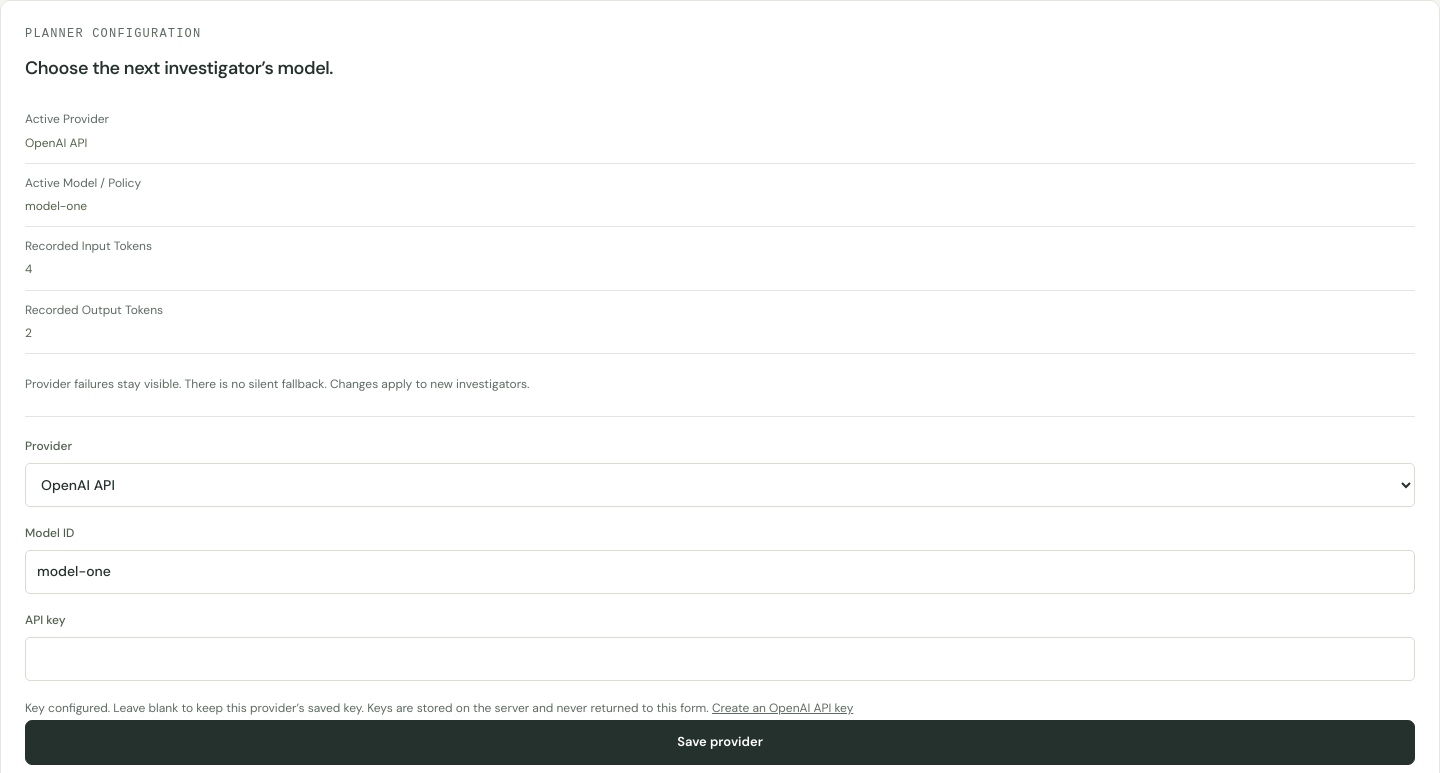
provider setup › shows helpful request failures and never echoes the entered secret
Type "private-fixture" into the password field labelled "API key" at (720, 659), box [25,637,1415,681]
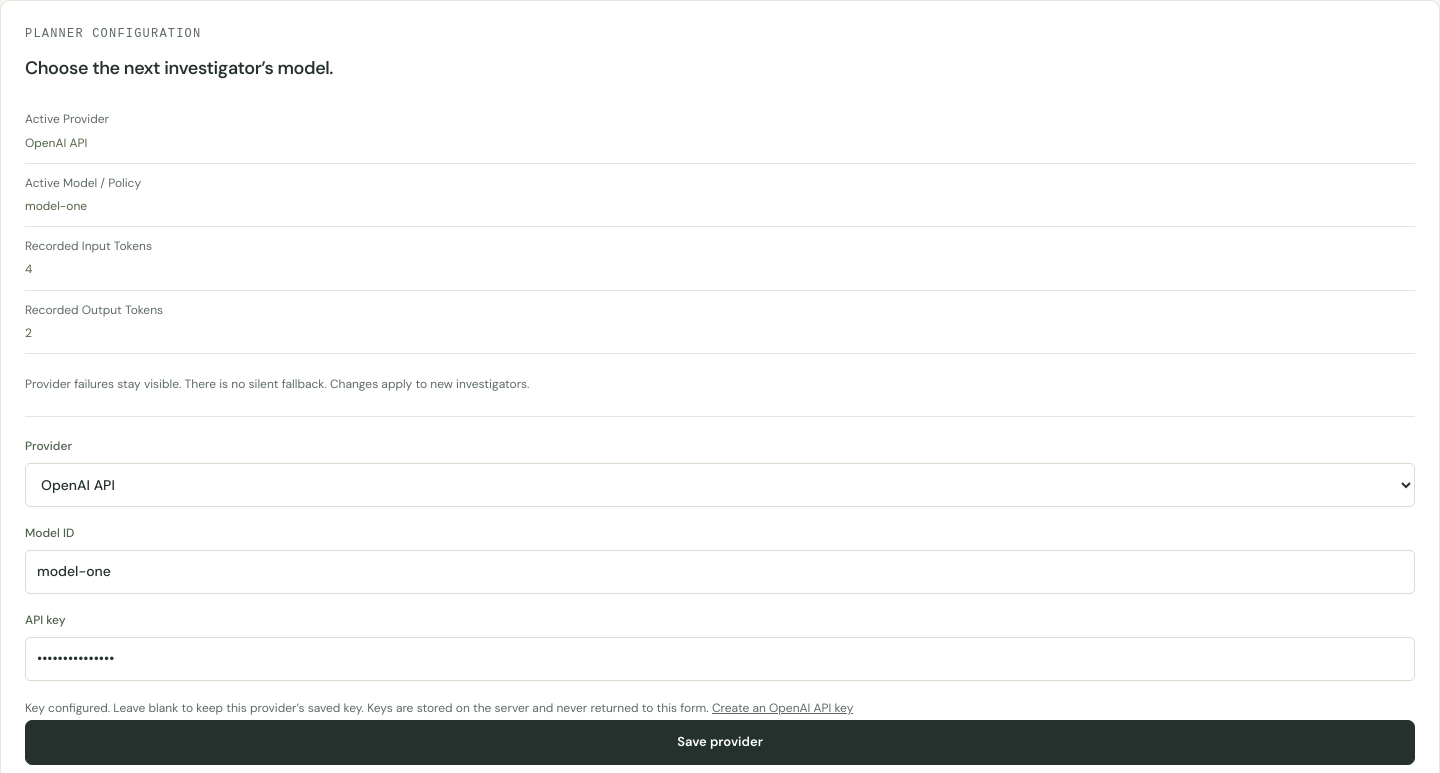
Click the button "Save provider" at (720, 742), box [25,720,1415,764]
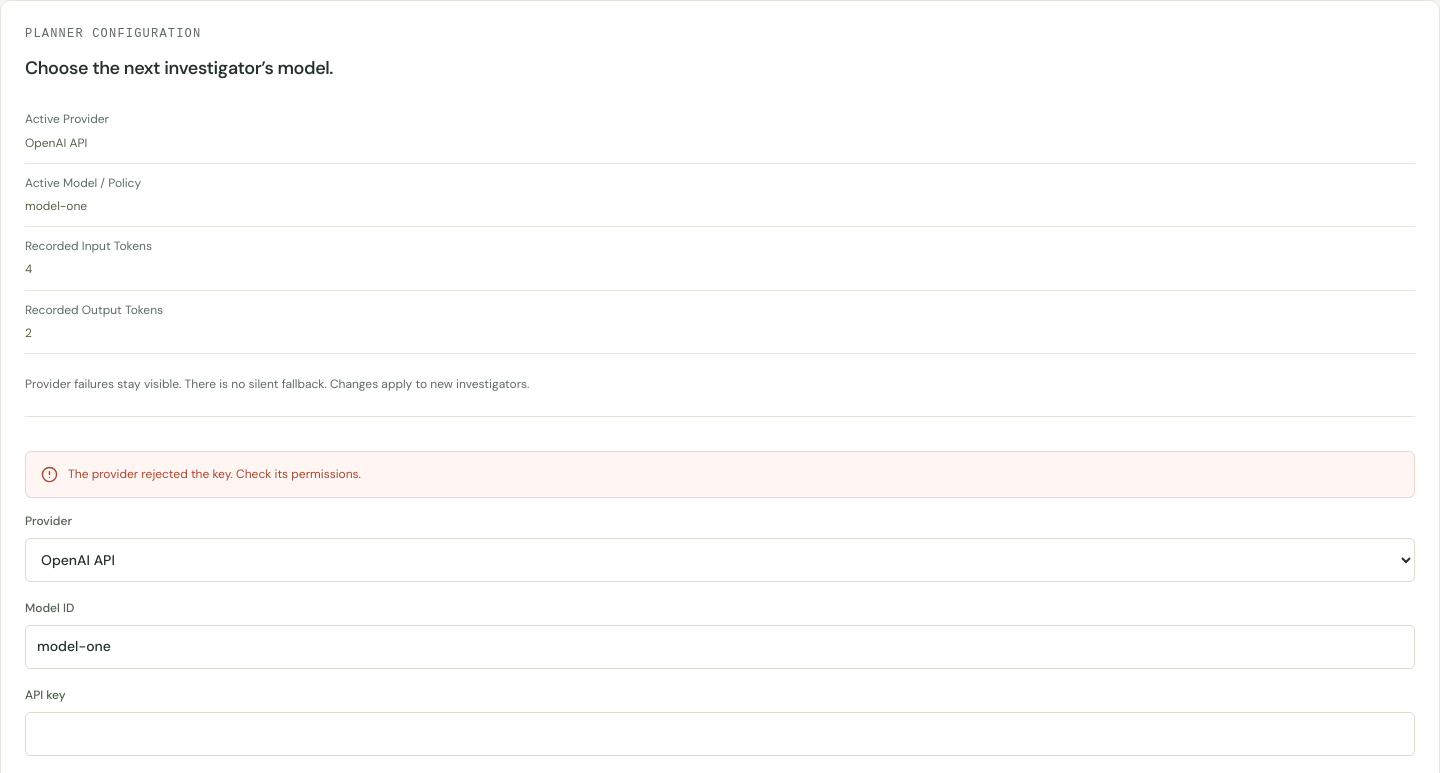
Result: the message shows "Check its permissions" at [68,466,361,482]
Result: the password field labelled "API key" is empty at [25,712,1415,756]
